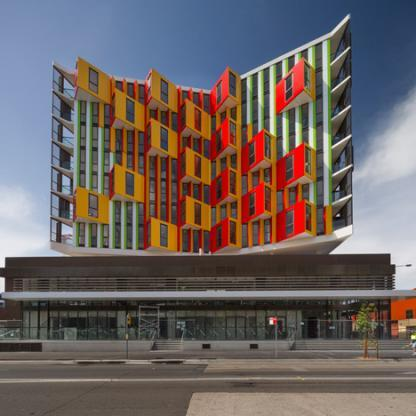Balcony: (330, 49, 344, 66), (332, 188, 346, 204), (332, 217, 346, 232), (331, 77, 345, 92), (331, 106, 345, 121), (332, 133, 346, 148), (332, 160, 346, 175), (61, 89, 74, 99), (61, 114, 74, 124), (61, 137, 74, 147), (61, 162, 74, 172), (61, 185, 74, 195), (61, 210, 74, 220), (61, 235, 74, 245)
Building Outline: (0, 13, 416, 340)
Door: (88, 318, 107, 340), (49, 318, 67, 340), (227, 318, 245, 340), (308, 318, 326, 340), (267, 318, 285, 340)
Facade: (0, 14, 416, 341)
Glass Wall: (21, 310, 389, 340), (23, 279, 389, 306)
Window: (286, 153, 293, 182), (285, 73, 292, 102), (90, 68, 98, 93), (90, 194, 98, 218), (126, 172, 134, 196), (286, 209, 293, 236), (317, 208, 323, 233), (317, 180, 323, 205), (317, 152, 323, 177), (316, 124, 322, 149), (316, 98, 322, 123), (316, 70, 322, 95), (316, 43, 322, 68), (301, 50, 307, 75), (302, 103, 308, 127), (276, 113, 282, 137), (276, 139, 282, 163), (302, 129, 308, 153), (161, 127, 167, 151), (230, 73, 236, 97), (230, 171, 236, 195), (230, 122, 236, 145), (230, 221, 236, 244), (265, 132, 270, 159), (306, 204, 311, 231), (306, 148, 311, 175), (277, 190, 283, 212), (161, 224, 167, 246), (250, 192, 255, 218), (253, 223, 259, 244), (288, 56, 293, 81), (276, 62, 281, 87), (265, 187, 270, 212), (180, 151, 185, 176), (180, 103, 185, 128), (289, 108, 294, 132), (289, 134, 294, 158), (196, 108, 201, 132), (162, 80, 167, 103), (196, 155, 201, 178), (196, 203, 201, 225), (305, 63, 309, 90), (150, 204, 155, 225), (92, 151, 97, 172), (93, 103, 98, 124), (92, 127, 97, 148), (92, 174, 97, 195), (79, 223, 84, 244), (150, 180, 155, 201), (150, 157, 155, 178), (172, 182, 177, 203), (172, 206, 177, 227), (183, 230, 188, 251), (150, 110, 155, 131), (183, 92, 188, 113), (204, 95, 209, 116), (242, 225, 247, 246), (265, 220, 270, 241), (290, 188, 295, 209), (303, 184, 308, 205), (116, 130, 121, 150), (116, 153, 121, 173), (127, 202, 132, 222), (103, 225, 108, 245), (127, 227, 132, 247), (172, 160, 177, 180), (204, 232, 209, 252), (204, 186, 209, 206), (183, 184, 188, 204), (183, 138, 188, 158), (172, 113, 177, 133), (117, 83, 122, 103), (204, 140, 209, 160), (217, 128, 221, 153), (217, 81, 221, 106), (250, 140, 254, 165), (217, 176, 221, 201), (217, 225, 221, 249), (253, 172, 258, 190), (264, 68, 268, 90), (81, 150, 85, 171), (81, 101, 85, 122), (81, 125, 85, 146), (81, 174, 85, 195), (140, 132, 144, 153), (161, 205, 165, 226), (161, 181, 165, 202), (161, 158, 165, 179), (194, 231, 198, 252), (128, 84, 132, 105), (140, 86, 144, 107), (194, 93, 198, 114), (212, 116, 216, 137), (253, 123, 257, 144), (253, 99, 257, 120), (253, 74, 257, 95), (242, 175, 246, 196), (104, 152, 108, 172), (92, 224, 96, 244), (104, 176, 108, 196), (139, 203, 143, 223), (128, 154, 132, 174), (128, 132, 132, 152), (105, 128, 109, 148), (139, 228, 143, 248), (116, 202, 120, 222), (116, 226, 120, 246), (140, 156, 144, 176), (194, 185, 198, 205), (194, 139, 198, 159), (161, 112, 165, 132), (105, 105, 109, 125), (212, 208, 216, 228), (212, 163, 216, 183), (111, 168, 114, 194), (265, 168, 269, 187), (112, 94, 115, 119), (147, 221, 150, 245), (232, 203, 236, 220), (221, 112, 225, 129), (221, 158, 225, 175), (221, 205, 225, 222), (232, 155, 236, 172), (265, 118, 268, 140), (265, 94, 268, 116), (232, 108, 236, 124), (242, 79, 245, 100), (242, 103, 245, 124), (242, 127, 245, 148), (74, 192, 76, 215)
